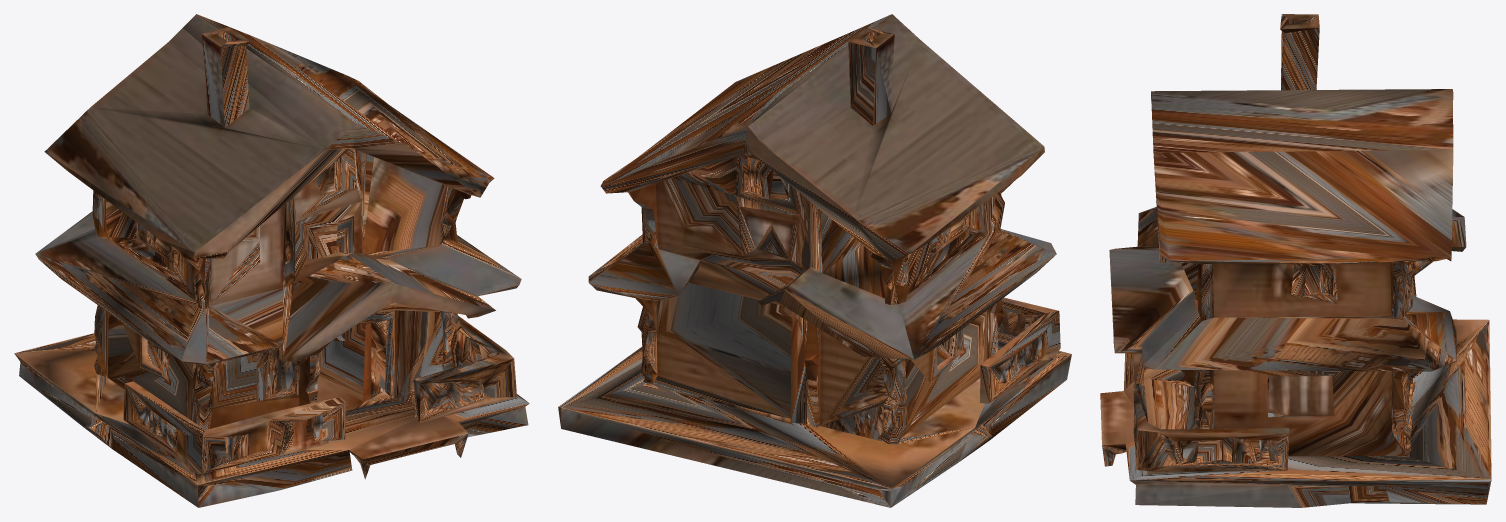
Rendered from alpine_chalet.glb.
The picture shows the model from 3 angles, left to right: view 1: azimuth 30°, elevation 25°; view 2: azimuth 150°, elevation 25°; view 3: azimuth 270°, elevation 25°; orthographic projection.
Visible parts, largest first — view 1: textured; view 2: textured; view 3: textured.
Part boxes in pixels (left/top/right/bottom): textured: left=14, top=14, right=529, bottom=507; textured: left=558, top=14, right=1071, bottom=507; textured: left=1100, top=14, right=1491, bottom=507.
Size of the model in its own units: 1.87 by 1.96 by 1.83.
1 material, 1 textured.
